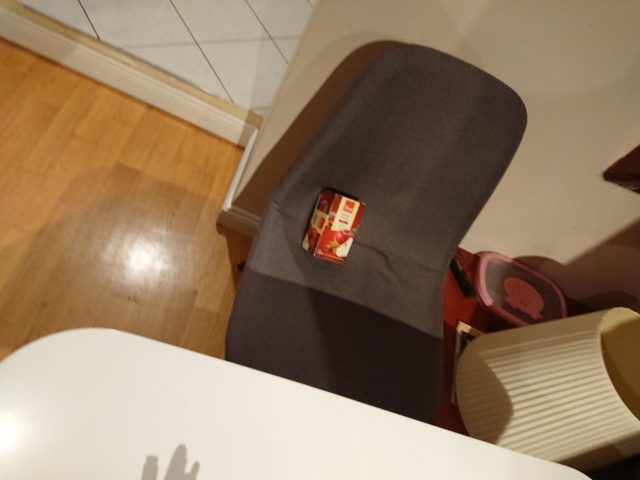Franck Apple Cinnamon Tea 60g: (298, 183, 369, 268)
